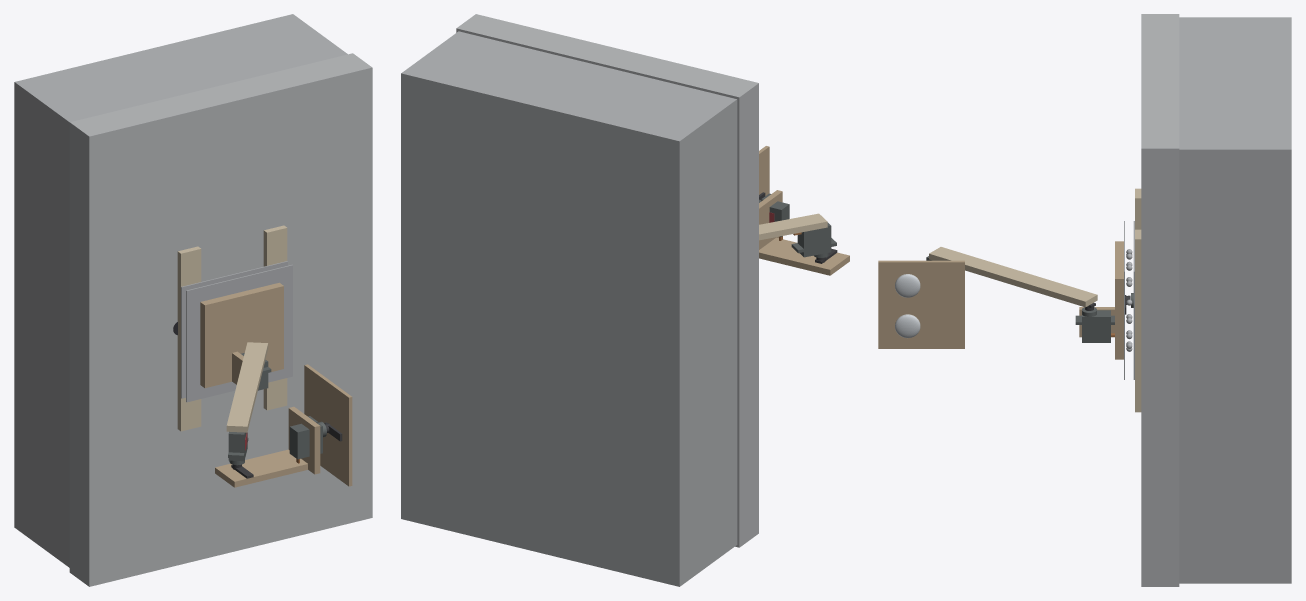
File: bitch_rest.glb
3 renders of one model, left to right at view 1: azimuth 30°, elevation 25°; view 2: azimuth 150°, elevation 25°; view 3: azimuth 270°, elevation 25°, orthographic. The views are drawn at different scales.
Parts seen in each view (by area): view 1: lid, box, turn_plate, head_panel, rail1, arm_stick, susan_top_b, neck_side, rail0, susan_top_f, neck_front, susan_top_l (+2 smaller); view 2: box, lid, neck_side, arm_stick, s3_case; view 3: box, lid, head_panel, arm_stick, rail0, turn_plate, s2_case.
Part boxes in pixels (x1,y1,x2,y2): lid: (69, 53, 372, 586); box: (14, 14, 347, 567); turn_plate: (200, 282, 283, 388); head_panel: (304, 364, 352, 486); rail1: (177, 246, 201, 431); arm_stick: (226, 342, 268, 432); susan_top_b: (186, 285, 209, 402); neck_side: (215, 449, 307, 487); rail0: (263, 225, 287, 410); susan_top_f: (270, 264, 292, 381); neck_front: (288, 406, 320, 474); susan_top_l: (209, 270, 270, 299); box: (401, 31, 737, 586); lid: (456, 14, 758, 547); neck_side: (759, 237, 849, 275); arm_stick: (759, 213, 827, 240); s3_case: (797, 222, 831, 257); box: (1179, 17, 1291, 583); lid: (1141, 14, 1179, 586); head_panel: (878, 260, 964, 348); arm_stick: (929, 247, 1097, 307); rail0: (1135, 229, 1141, 412); turn_plate: (1115, 241, 1123, 359); s2_case: (1082, 310, 1110, 342).
Size of the model in its own units: 0.25 by 0.38 by 0.3244.
